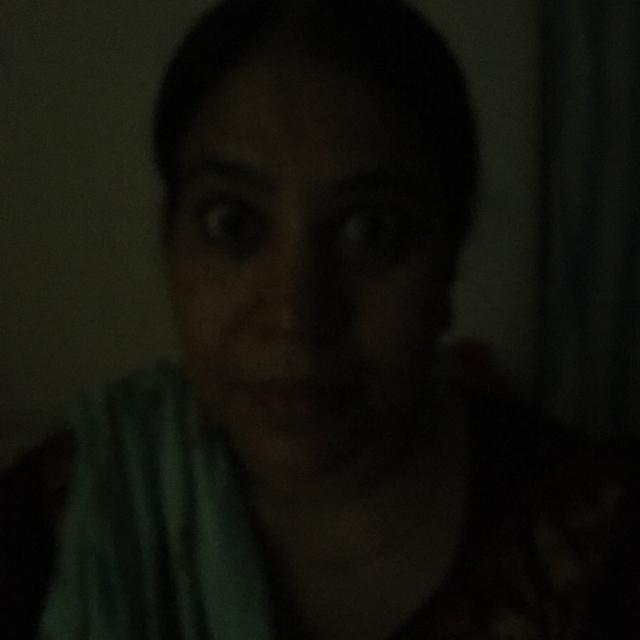Surprised: (135, 115, 461, 515)
